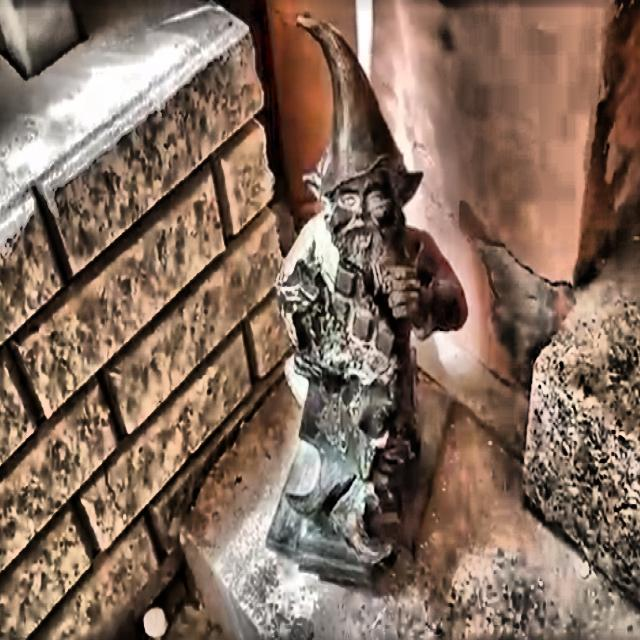Wedelek: (268, 18, 468, 582)
